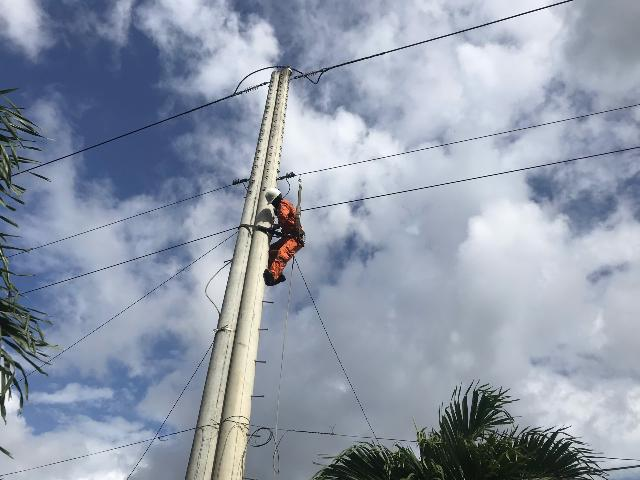harness: (262, 222, 312, 243)
helmet: (258, 182, 286, 208)
shoes: (259, 268, 276, 289)
